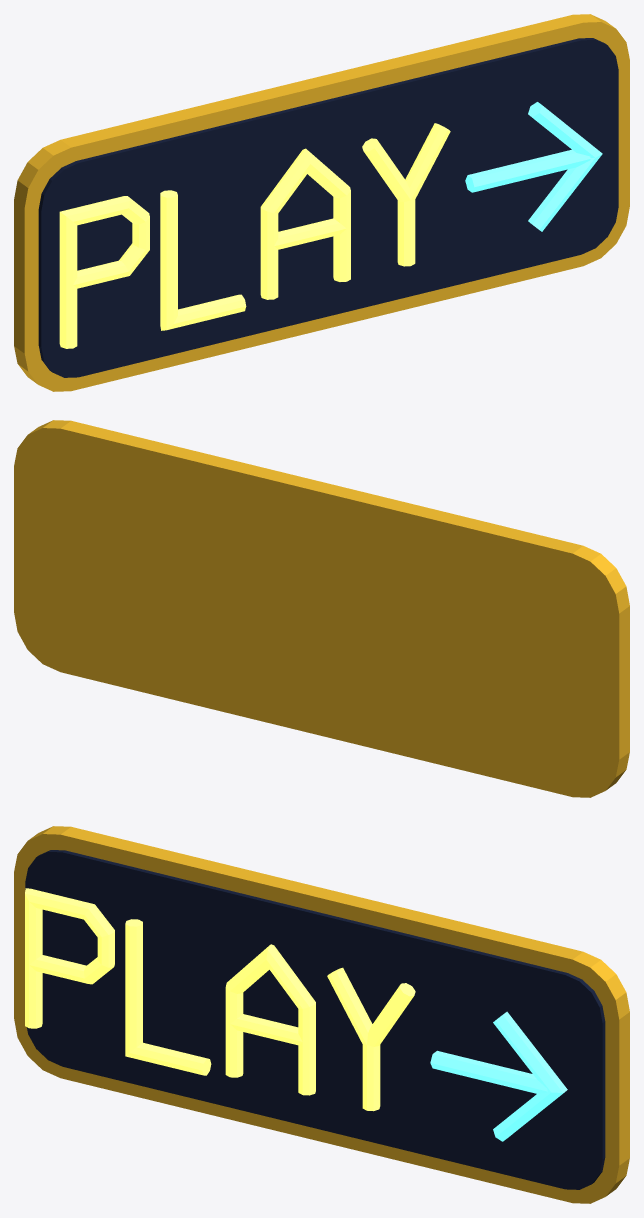
The model's file is Sign_Play.fbx.
The picture shows the model from 3 angles, top to bottom: view 1: azimuth 30°, elevation 25°; view 2: azimuth 150°, elevation 25°; view 3: azimuth 330°, elevation 25°; orthographic projection.
Visible parts, largest first — view 1: Sign_Play, Neon_Yellow, Neon_Cyan; view 2: Sign_Play; view 3: Sign_Play, Neon_Yellow, Neon_Cyan.
Part boxes in pixels (bbox=[...]): Sign_Play: bbox=[14, 14, 629, 391]; Neon_Yellow: bbox=[59, 123, 450, 348]; Neon_Cyan: bbox=[465, 102, 602, 231]; Sign_Play: bbox=[14, 420, 629, 797]; Sign_Play: bbox=[14, 826, 629, 1203]; Neon_Yellow: bbox=[25, 888, 415, 1111]; Neon_Cyan: bbox=[430, 1011, 567, 1141].
Size of the model in its own units: 13 by 5 by 1.02.
Materials: 3 (1 with a texture image).
